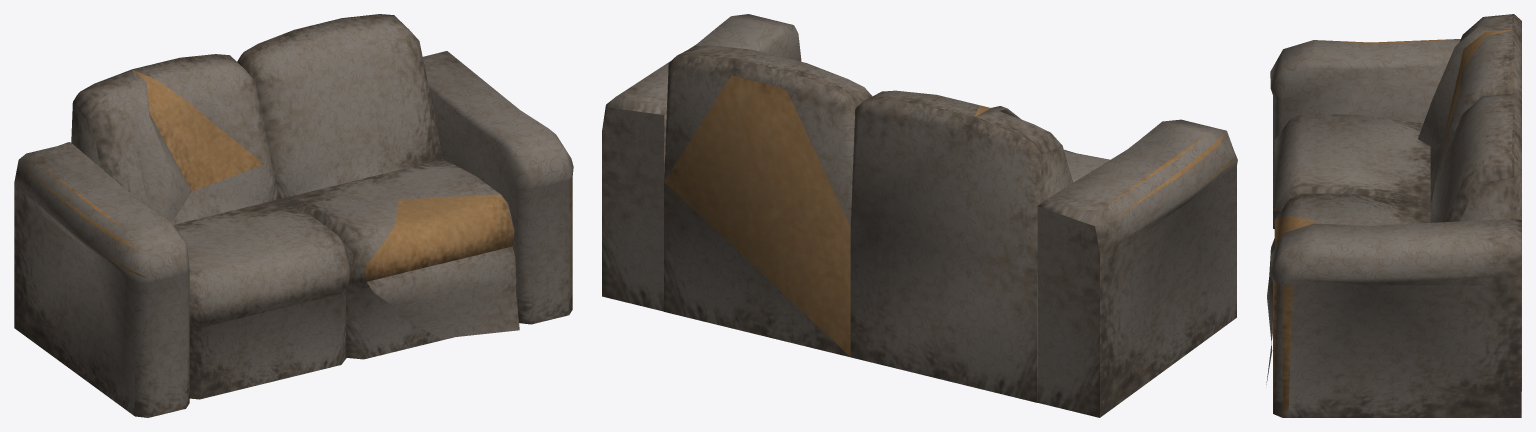
The model's file is SmallSofa_broken.FBX.
3 views of the same model, side by side, from view 1: azimuth 30°, elevation 25°; view 2: azimuth 150°, elevation 25°; view 3: azimuth 270°, elevation 25° (orthographic). The views are drawn at different scales.
Parts seen in each view (by area): view 1: SmallSofa_broken; view 2: SmallSofa_broken; view 3: SmallSofa_broken.
Part boxes in pixels (x1,y1,x2,y2): SmallSofa_broken: [14, 14, 573, 417]; SmallSofa_broken: [602, 14, 1237, 417]; SmallSofa_broken: [1266, 14, 1521, 417].
Bounding box in the file's own units: 165 × 81.69 × 81.64.
